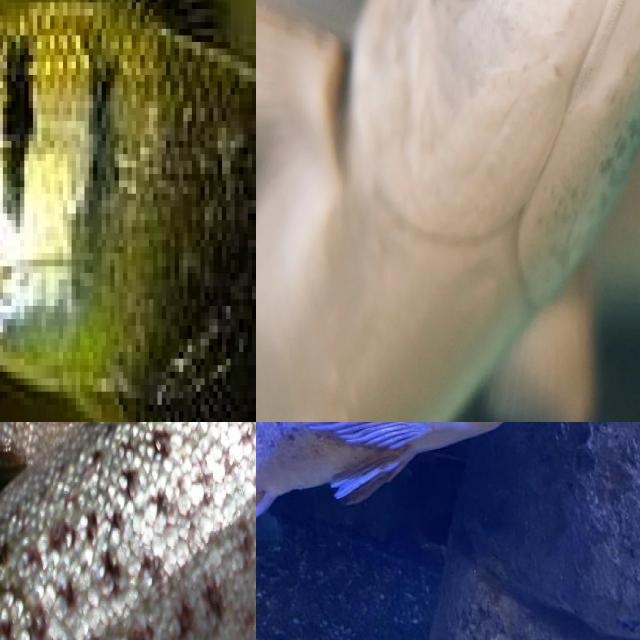fish: (0, 0, 256, 422), (256, 0, 613, 288), (256, 422, 583, 594), (0, 422, 256, 529)
